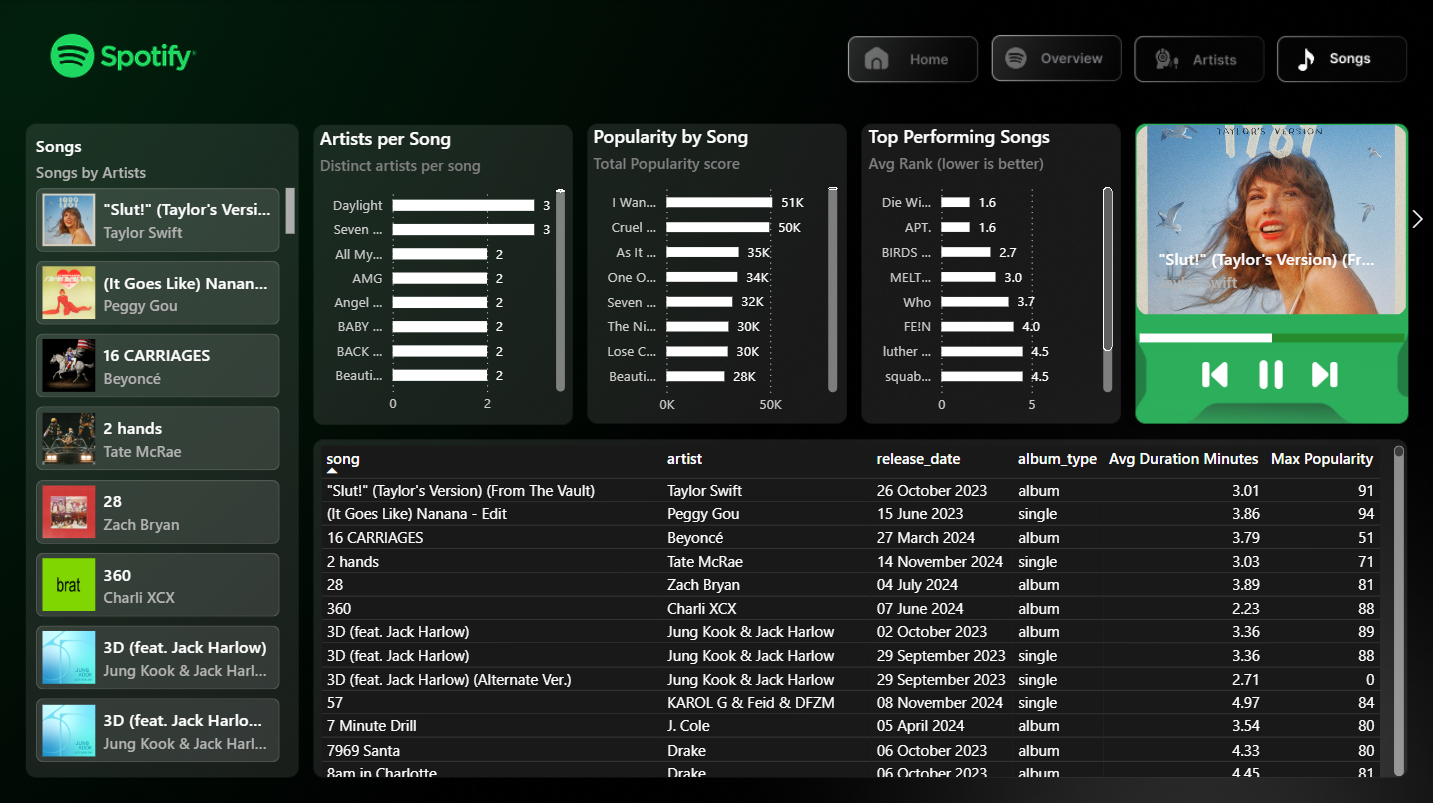

Layout of this report page (visuals, bound fields, positions):
{"tool":"powerbi","page":{"name":"Songs","canvas":[1280,720],"ordinal":3},"visuals":[{"type":"actionButton","box":[756.9,31.4,118.6,40],"z":0},{"type":"actionButton","box":[885.4,31.4,112.9,40],"z":1000},{"type":"actionButton","box":[1014,31.4,118.6,40],"z":2000},{"type":"actionButton","box":[1135.4,31.4,118.6,40],"z":3000},{"type":"advancedSlicerVisual","title":"Songs ","fields":{"Values":["Top-50-World.song"]},"box":[28.6,120,240,567.1],"z":4000},{"type":"hundredPercentStackedBarChart","fields":{"Y":["_Measures.Avg Popularity","Avg(Top-50-World.popularity)"]},"box":[1011.4,260,245.7,77.1],"z":5000},{"type":"image","box":[1071.4,321.4,25.7,25.7],"z":6000},{"type":"image","box":[1121.4,321.4,25.7,25.7],"z":7000},{"type":"image","box":[1168.6,321.4,25.7,25.7],"z":8000},{"type":"shape","box":[998.6,91.4,258.6,301.4],"z":9000},{"type":"clusteredBarChart","title":"Artists per Song","fields":{"Category":["Top-50-World.song"],"Y":["_Measures.Distinct Artists"]},"box":[281.4,112.9,228.6,265.7],"z":10000},{"type":"clusteredBarChart","title":"Top Performing Songs","fields":{"Category":["Top-50-World.song"],"Y":["_Measures.Avg Position"]},"box":[770,110,227.1,268.6],"z":11000},{"type":"clusteredBarChart","title":"Popularity by Song","fields":{"Category":["Top-50-World.song"],"Y":["Sum(Top-50-World.popularity)"]},"box":[525.7,110,227.1,268.6],"z":12000},{"type":"tableEx","fields":{"Values":["Top-50-World.song","Top-50-World.artist","Top-50-World.release_date","Top-50-World.album_type","_Measures.Avg Duration Minutes","_Measures.Max Popularity"]},"box":[281.4,392.9,975.7,304.3],"z":13000},{"type":"advancedSlicerVisual","title":"Songs ","fields":{"Values":["Top-50-World.song"]},"box":[987.1,105.7,292.9,181.4],"z":14000}]}

Visuals, with their boxes on the page's 1280x720 design canvas (x1, y1, x2, y2). These are canvas units, not pixel positions in the 1433x803 screenshot, which may show the page scaled, cropped or inside an application window:
actionButton: crop(757, 31, 876, 71)
actionButton: crop(885, 31, 998, 71)
actionButton: crop(1014, 31, 1133, 71)
actionButton: crop(1135, 31, 1254, 71)
"Songs " advancedSlicerVisual: crop(29, 120, 269, 687)
hundredPercentStackedBarChart - _Measures.Avg Popularity x Avg(Top-50-World.popularity): crop(1011, 260, 1257, 337)
image: crop(1071, 321, 1097, 347)
image: crop(1121, 321, 1147, 347)
image: crop(1169, 321, 1194, 347)
shape: crop(999, 91, 1257, 393)
"Artists per Song" clusteredBarChart: crop(281, 113, 510, 379)
"Top Performing Songs" clusteredBarChart: crop(770, 110, 997, 379)
"Popularity by Song" clusteredBarChart: crop(526, 110, 753, 379)
tableEx - Top-50-World.song x Top-50-World.artist: crop(281, 393, 1257, 697)
"Songs " advancedSlicerVisual: crop(987, 106, 1280, 287)
